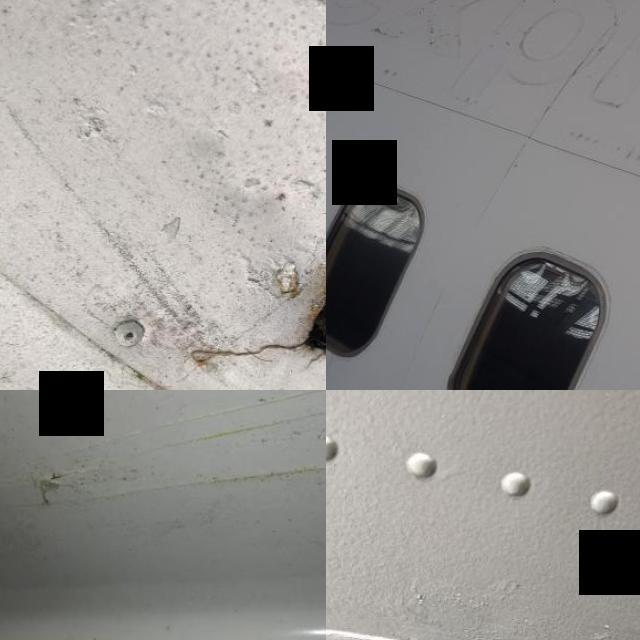Crack: (180, 239, 326, 383), (105, 390, 326, 447), (117, 408, 326, 462), (108, 462, 326, 500), (29, 446, 90, 510)
